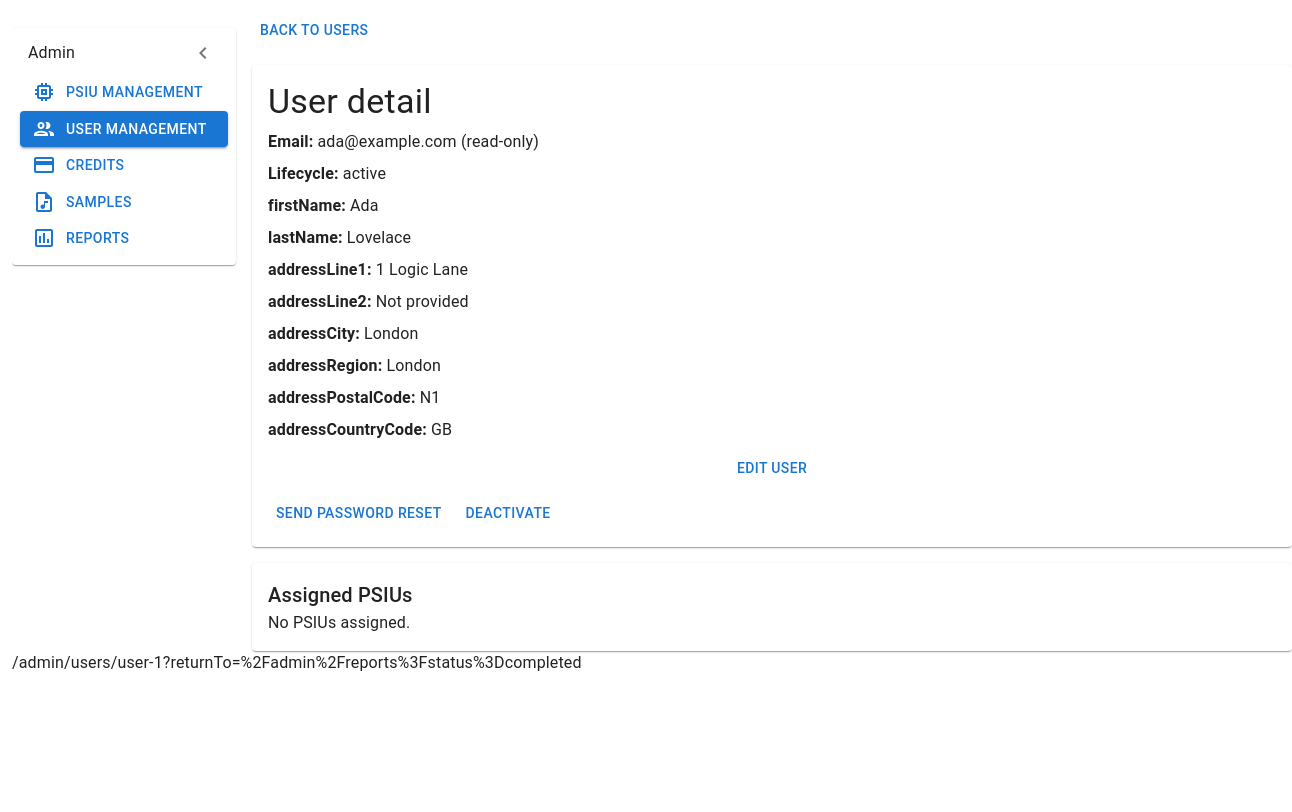
Test: administrator directory tables › maps populated snake_case user detail fields and returns to the validated report list URL
Expected: the text "Ada" is shown, x1=350 y1=196 x2=379 y2=216
Expected: the text "1 Logic Lane" is shown, x1=376 y1=260 x2=468 y2=280
Click the button "Back to users" at {"x": 314, "y": 30}, box x1=252 y1=12 x2=376 y2=48
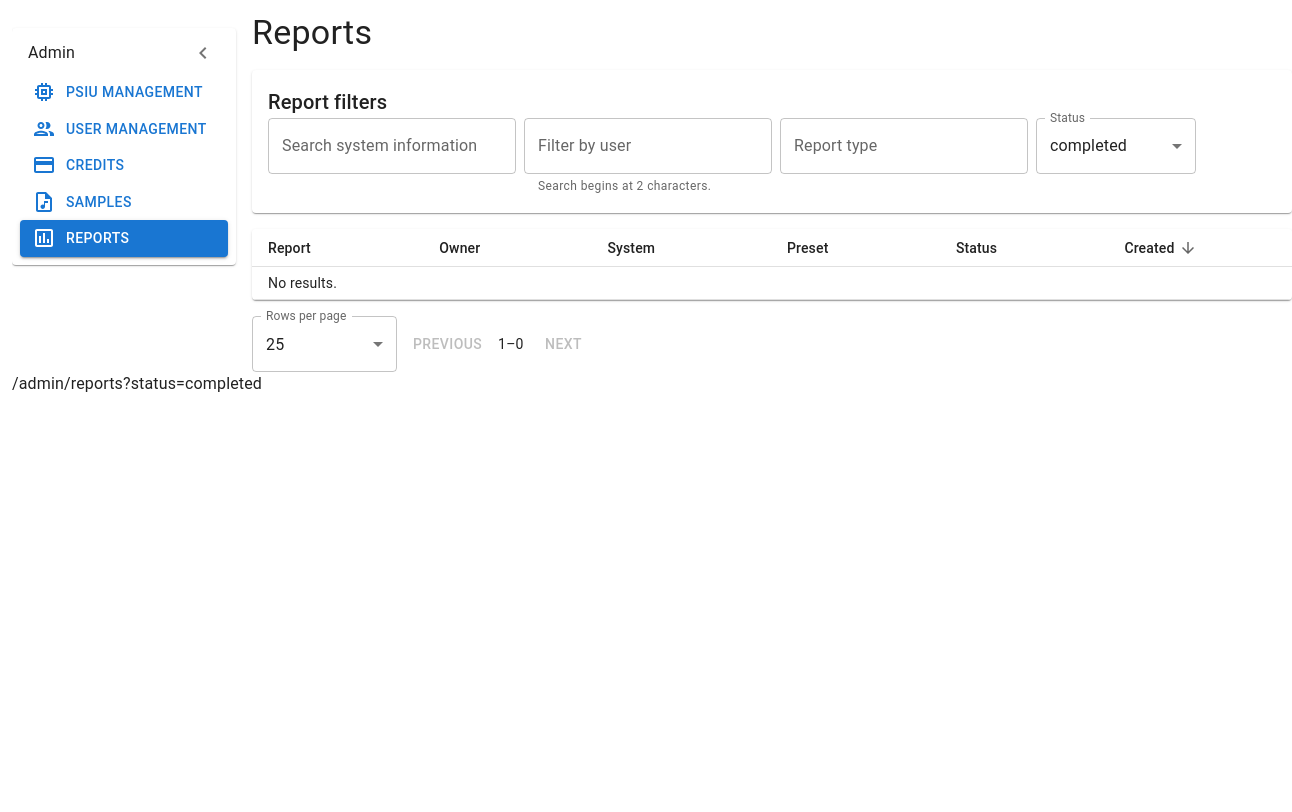
Expected: the text with test id "location" reads "/admin/reports?status=completed", x1=12 y1=374 x2=262 y2=393
